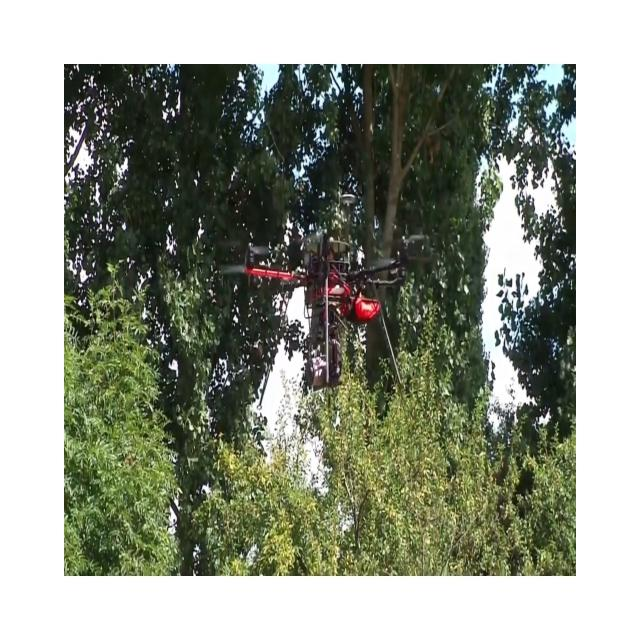drone: (216, 190, 432, 402)
